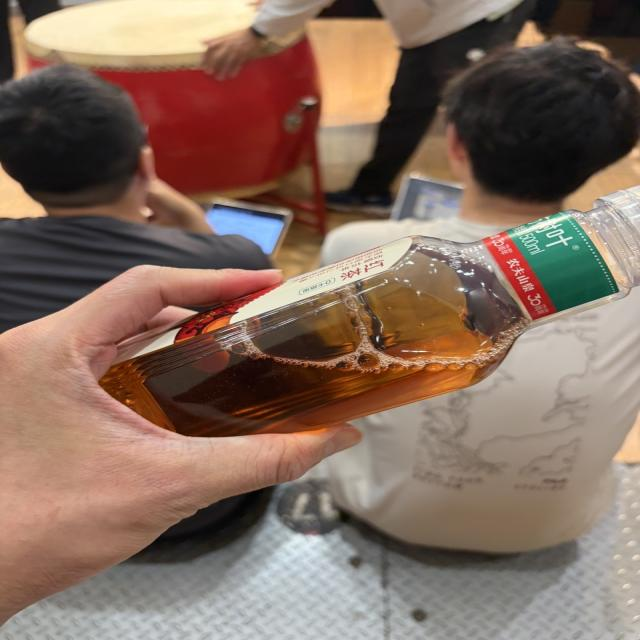medium: (101, 188, 639, 436)
